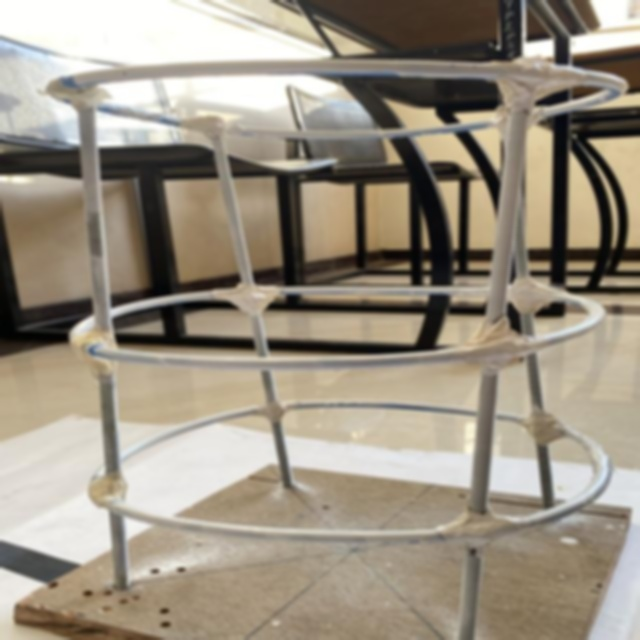silo: (20, 59, 640, 640)
